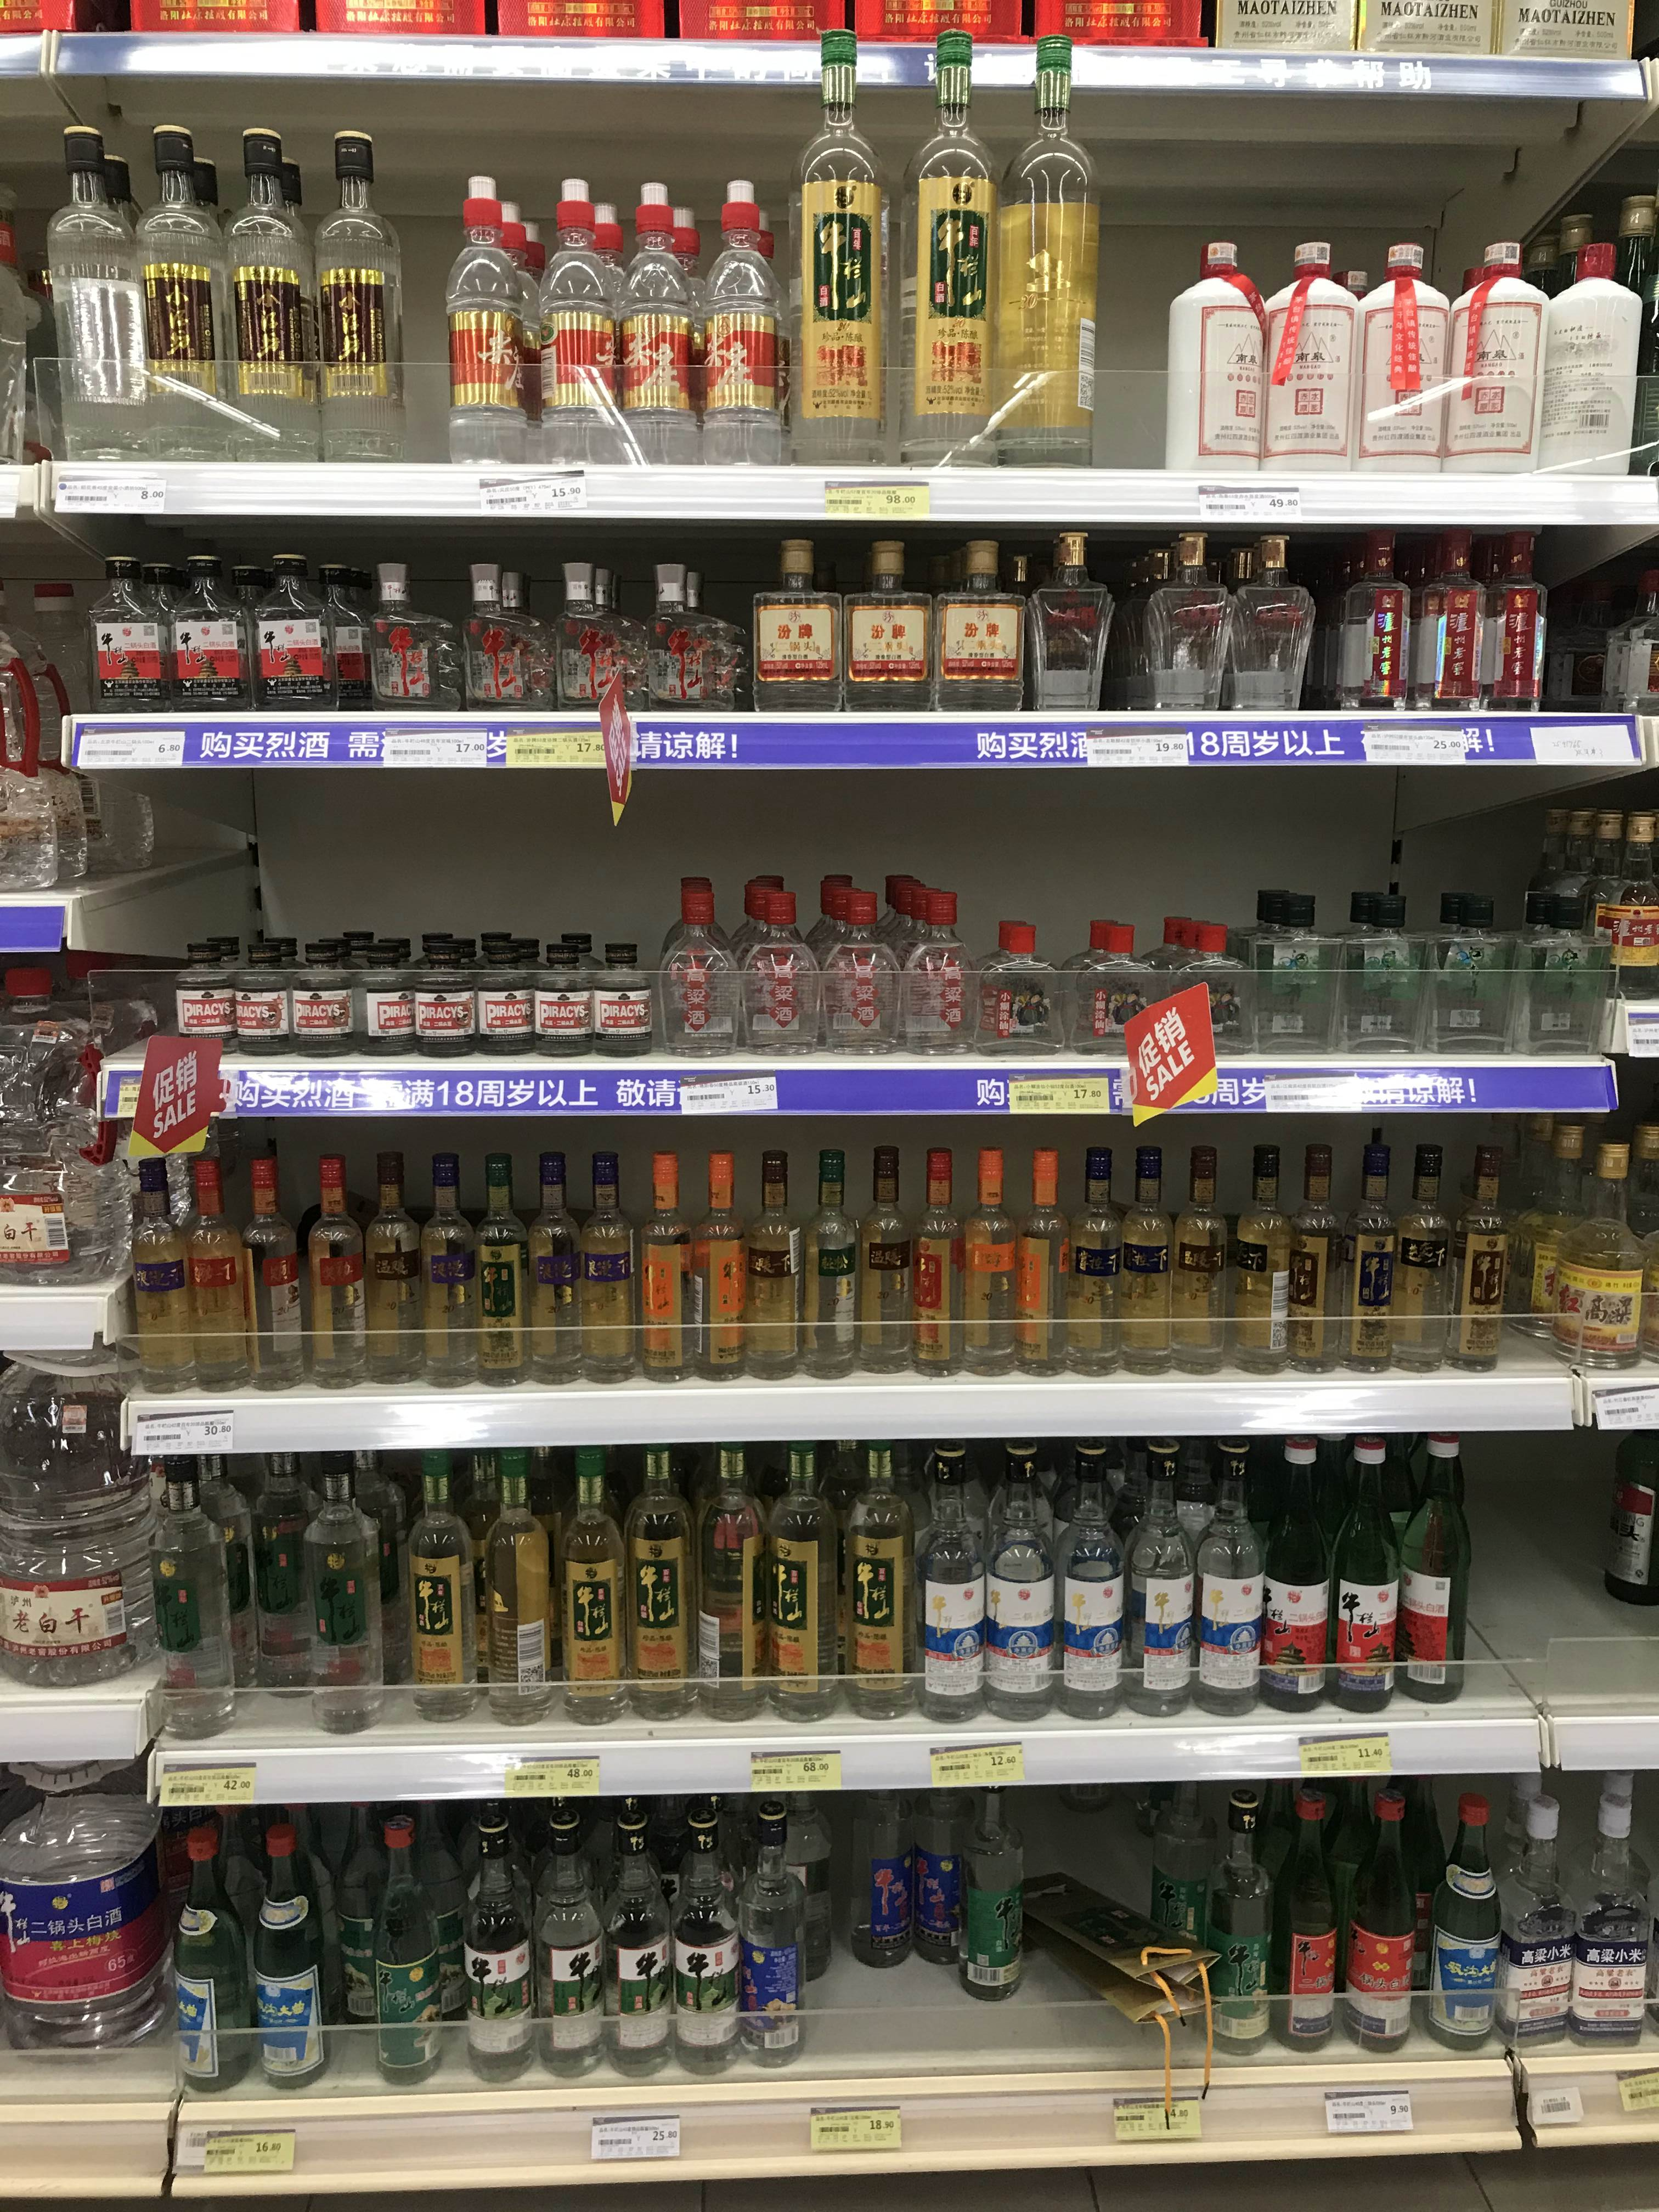bag: (1420, 899, 1506, 1054)
bottle: (2, 1331, 153, 1698), (890, 10, 1004, 462), (976, 31, 1091, 470), (784, 31, 894, 465), (0, 583, 153, 887), (51, 131, 159, 463), (124, 129, 227, 460), (216, 129, 317, 456), (307, 132, 404, 463), (0, 965, 94, 1280), (439, 174, 535, 467), (141, 1449, 239, 1731), (532, 179, 624, 470), (1541, 223, 1642, 482), (613, 183, 699, 472), (699, 181, 782, 470), (476, 1451, 563, 1724), (1333, 1784, 1419, 2054), (1565, 1791, 1656, 2045), (929, 1761, 1025, 2001), (164, 1834, 253, 2092), (300, 1460, 383, 1731), (840, 1439, 920, 1721), (763, 1440, 843, 1723), (366, 1815, 450, 2083), (392, 1454, 476, 1723), (620, 1444, 701, 1723), (911, 1442, 990, 1724), (1262, 247, 1359, 474), (1168, 242, 1263, 472), (458, 1797, 535, 2085), (1490, 1789, 1575, 2045), (692, 1440, 769, 1723), (981, 1444, 1058, 1724), (1258, 1789, 1338, 2055), (1455, 237, 1546, 472), (556, 1447, 633, 1724), (1326, 1430, 1401, 1712), (1425, 1796, 1507, 2052), (1394, 1425, 1469, 1703), (530, 1810, 606, 2081), (1256, 1437, 1331, 1714), (251, 1832, 329, 2094), (1577, 199, 1656, 449), (1054, 1453, 1126, 1724), (1556, 1130, 1636, 1372), (1126, 1447, 1197, 1717), (235, 1460, 314, 1705), (601, 1811, 673, 2080), (908, 1749, 992, 1975), (1194, 1451, 1263, 1716), (739, 1803, 809, 2067), (1377, 1141, 1457, 1371), (124, 1155, 200, 1393), (1211, 1785, 1277, 2055), (669, 1808, 735, 2078), (178, 1148, 251, 1392), (1363, 244, 1441, 470), (1131, 538, 1230, 716), (842, 1750, 922, 1968), (239, 1150, 310, 1392), (1438, 1137, 1511, 1371), (1330, 1136, 1401, 1372), (573, 1148, 645, 1385), (1223, 1141, 1295, 1374), (301, 1157, 371, 1390), (1058, 1137, 1126, 1376), (1513, 820, 1586, 1040), (1162, 1139, 1230, 1372), (737, 1146, 805, 1379), (1283, 1141, 1351, 1372), (1511, 1113, 1577, 1350), (523, 1151, 589, 1388), (1220, 540, 1310, 712), (1023, 536, 1112, 711), (634, 1150, 701, 1381), (418, 1151, 483, 1388), (793, 1150, 859, 1379), (361, 1155, 425, 1390), (1112, 1146, 1178, 1374), (471, 1151, 535, 1385), (685, 1150, 749, 1379), (957, 1146, 1021, 1376), (850, 1144, 915, 1374), (1152, 1773, 1220, 1987), (887, 871, 967, 1052), (908, 1150, 971, 1374), (1330, 533, 1408, 712), (1011, 1150, 1072, 1378), (1469, 523, 1541, 716), (810, 873, 887, 1052), (751, 545, 833, 712), (936, 543, 1018, 711), (648, 561, 739, 711), (843, 543, 924, 712), (1408, 526, 1480, 714), (659, 878, 734, 1054), (735, 876, 810, 1050), (364, 566, 450, 712), (251, 556, 329, 711), (1600, 1400, 1657, 1611), (1150, 921, 1241, 1054), (1600, 817, 1657, 1014), (777, 1791, 833, 1984), (551, 564, 622, 714), (467, 570, 540, 714), (979, 925, 1054, 1052), (577, 566, 638, 714), (1073, 935, 1150, 1052), (324, 563, 383, 705), (530, 942, 598, 1061), (474, 941, 538, 1054)
box: (1326, 911, 1425, 1050)
bucket: (0, 1761, 171, 2062)
jar: (1236, 899, 1335, 1043), (164, 556, 249, 711), (85, 564, 171, 712), (586, 942, 655, 1054), (410, 944, 476, 1055), (173, 944, 244, 1045), (228, 944, 293, 1052), (291, 942, 352, 1054), (352, 942, 413, 1052), (2, 2, 91, 54)
